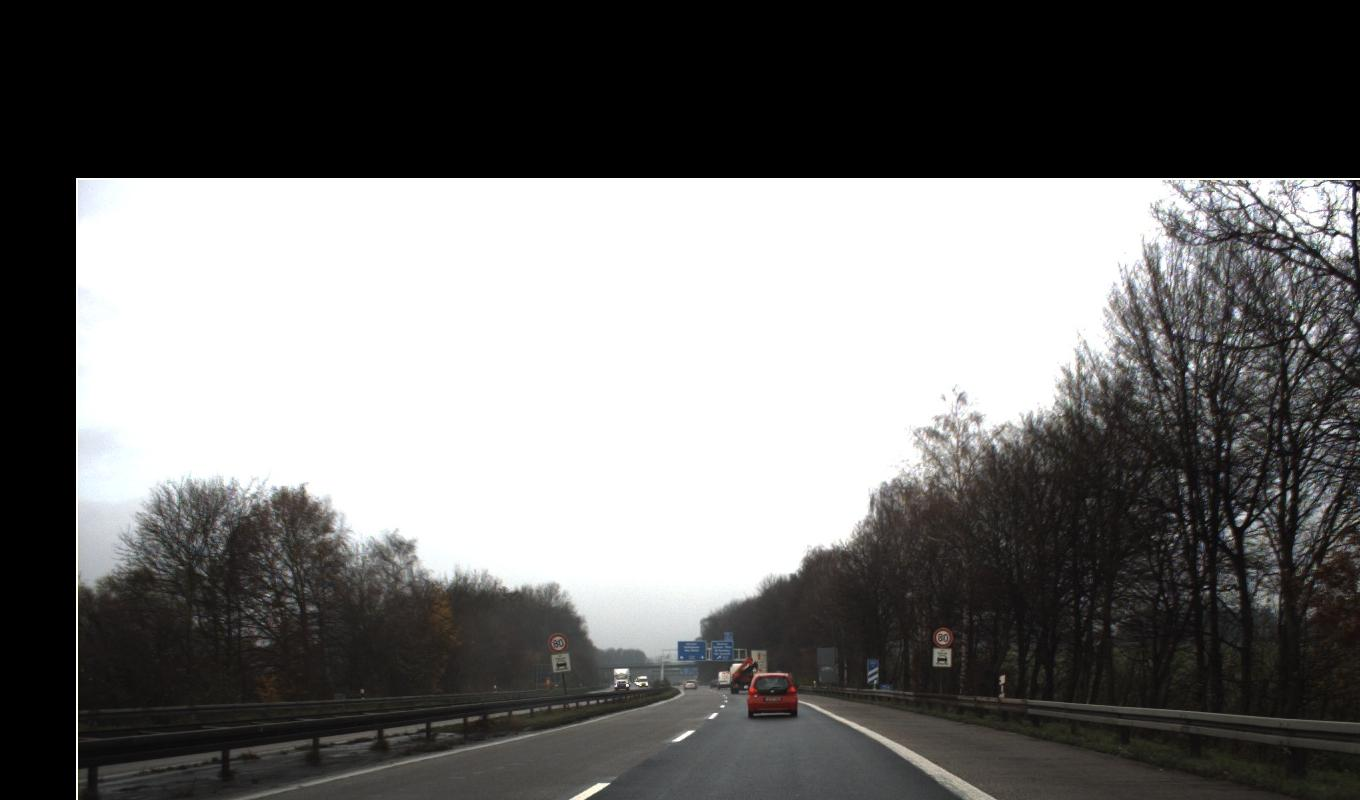NO-speed limit 80: (547, 626, 953, 652)
